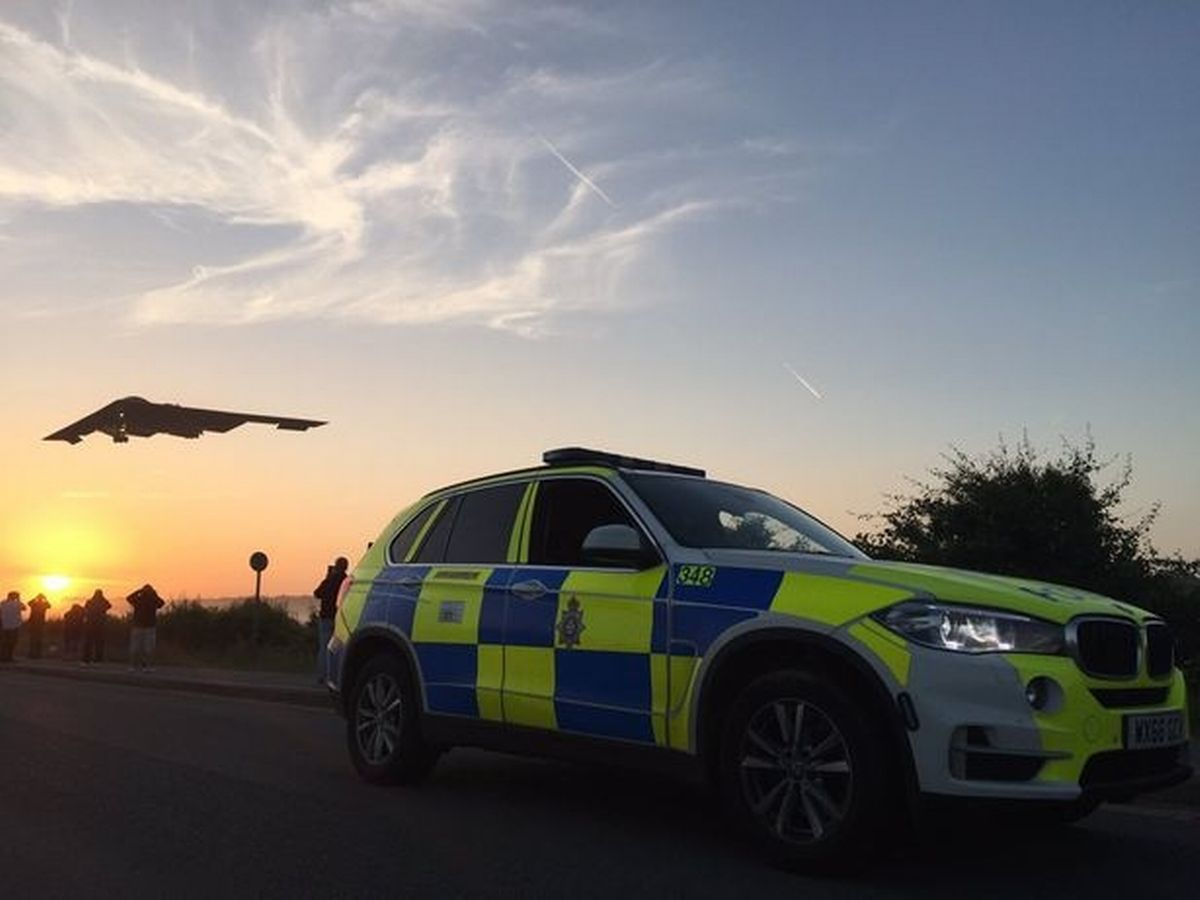B2: (39, 395, 330, 446)
